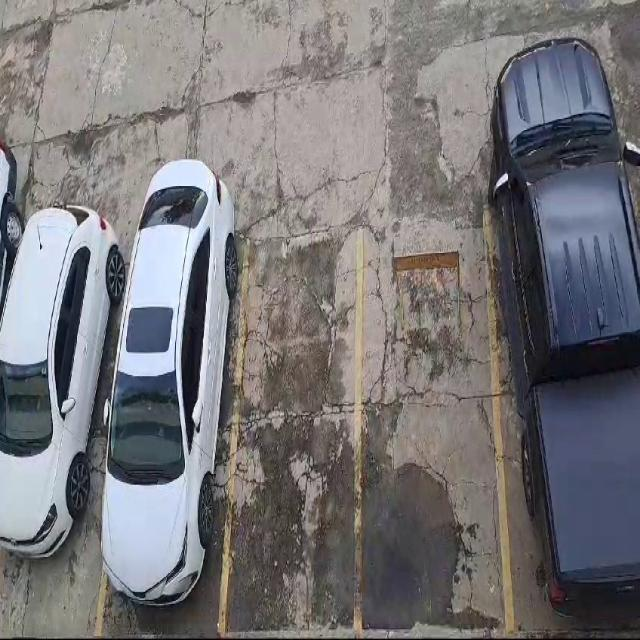empty: (356, 221, 508, 635), (220, 241, 362, 639)
notEmpty: (485, 191, 639, 634), (98, 246, 247, 633), (2, 255, 139, 630)
